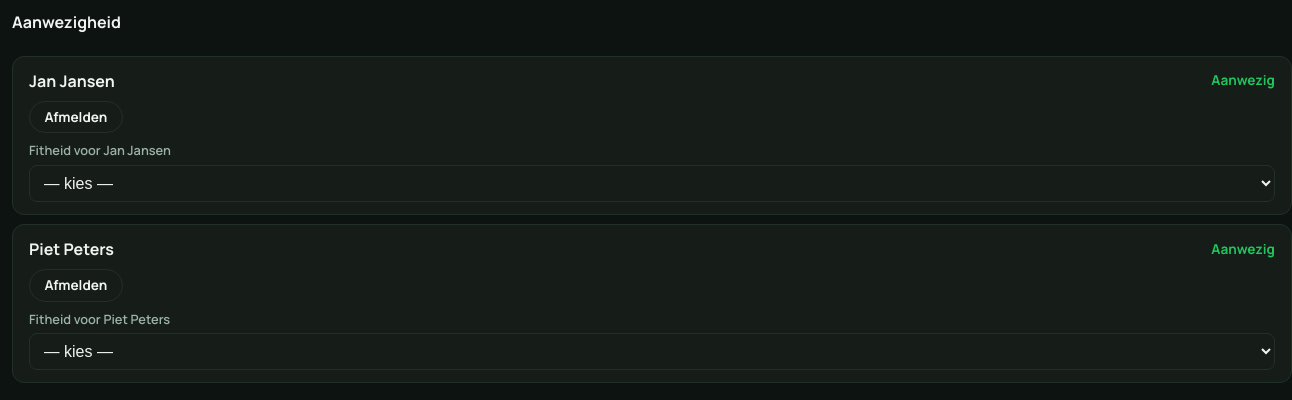
Test: AanwezigheidScreen › marks a player afgemeld and removes their fitheid control
Expected: the text "Jan Jansen" is shown, [29,68,115,92]
Expected: the dropdown labelled "Fitheid voor Jan Jansen" is shown, [29,164,1275,202]
Click the 1st button "Afmelden".
click(76, 117)  # box [29,100,123,133]
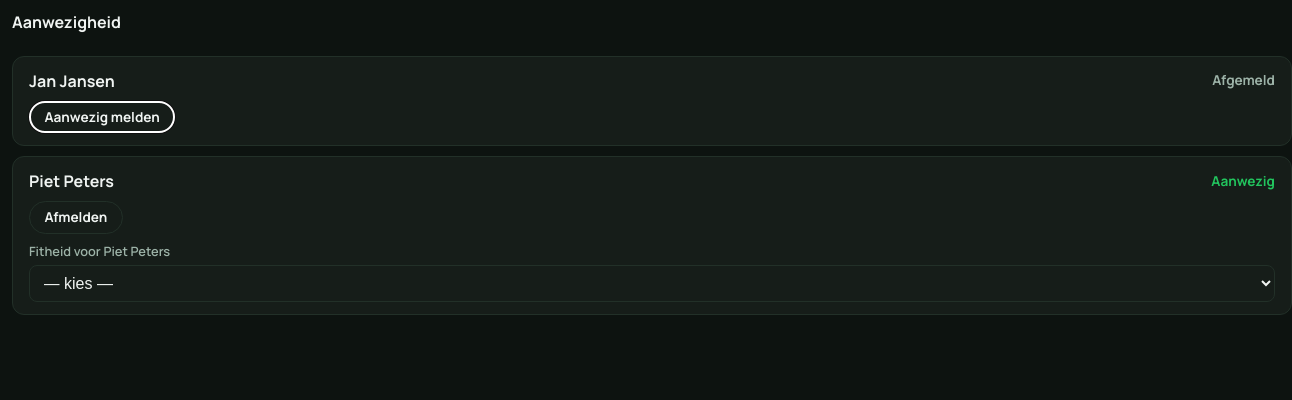
Expected: the text "Afgemeld" is shown, [1212,70,1275,91]
Expected: the button "Aanwezig melden" is shown, [29,100,175,133]
